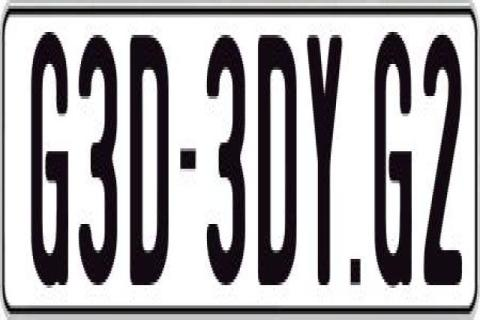0: (207, 35, 251, 297), (422, 35, 464, 297), (76, 35, 114, 294)
D: (255, 29, 298, 285), (129, 35, 169, 299)
G: (30, 29, 74, 288), (374, 32, 414, 294)
Y: (306, 35, 348, 288)
